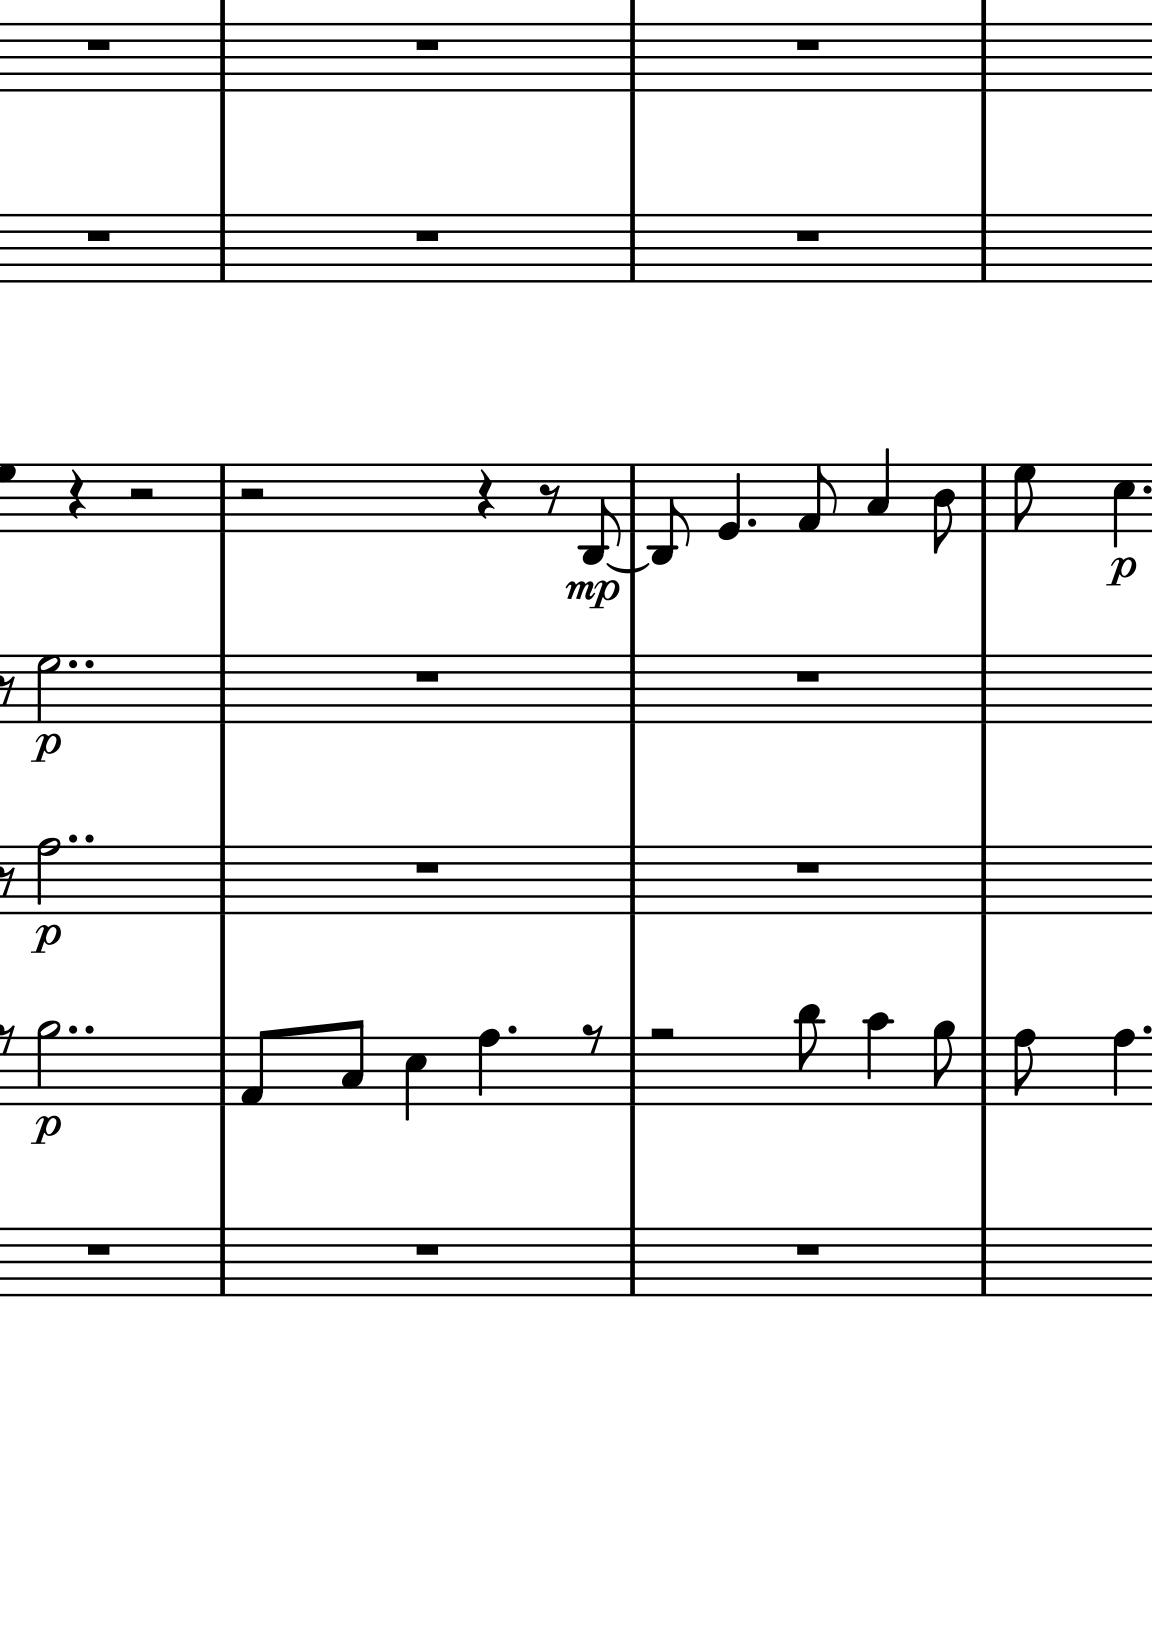2_7: (34, 654, 64, 727)
2_8: (36, 835, 64, 916)
2_9: (35, 1019, 62, 1107)
4_0: (716, 464, 742, 542)
4_10: (863, 1011, 891, 1107)
4_3: (866, 447, 891, 535)
4_5: (1111, 464, 1137, 550), (403, 1036, 428, 1123)
4_8: (476, 1027, 501, 1108), (1112, 1027, 1137, 1107)
8_-3: (578, 462, 621, 566), (650, 461, 689, 566)
8_1: (795, 464, 838, 533), (239, 1028, 269, 1108)
8_11: (795, 1004, 823, 1107)
8_3: (340, 1019, 365, 1107)
8_4: (931, 462, 956, 556)
8_7: (1012, 464, 1037, 535)
8_8: (1011, 1027, 1037, 1107)
8_9: (931, 1021, 956, 1107)
Double_dot: (69, 655, 95, 673), (69, 1022, 95, 1038), (69, 831, 95, 846)
Rests1: (82, 226, 113, 245), (411, 226, 443, 245), (792, 226, 823, 245), (790, 36, 823, 55), (82, 36, 113, 55), (411, 36, 443, 55), (411, 667, 443, 685), (792, 667, 823, 685), (82, 1240, 113, 1257), (411, 1240, 443, 1257), (792, 1240, 823, 1257), (792, 859, 822, 876), (411, 859, 443, 875)
Rests2: (646, 1023, 678, 1044), (123, 485, 158, 503), (236, 484, 268, 503)
Rests4: (474, 469, 496, 522), (66, 469, 86, 521)
Rests8: (537, 482, 564, 517), (580, 1022, 603, 1056), (1, 673, 17, 712), (1, 1023, 17, 1060), (1, 864, 17, 900)
Single_barline: (618, 845, 645, 915), (209, 464, 234, 533), (620, 1227, 645, 1297), (209, 22, 234, 91), (971, 845, 996, 913), (620, 1037, 645, 1105), (211, 1036, 234, 1107), (620, 22, 645, 90), (209, 655, 234, 723), (620, 655, 645, 722), (211, 846, 234, 915), (621, 464, 643, 533), (972, 22, 995, 91), (211, 216, 233, 282), (621, 216, 643, 282), (972, 1227, 994, 1297), (972, 464, 994, 532), (972, 214, 994, 282), (972, 655, 994, 723), (212, 1229, 233, 1296), (972, 1037, 992, 1105)
Slur: (608, 562, 650, 578)
dot: (504, 1021, 520, 1037), (1138, 1022, 1152, 1038), (1138, 482, 1152, 496), (744, 515, 758, 528)
mp: (565, 574, 622, 612)
p: (1106, 553, 1140, 592), (30, 922, 64, 956), (29, 1114, 64, 1146), (30, 732, 62, 764)
